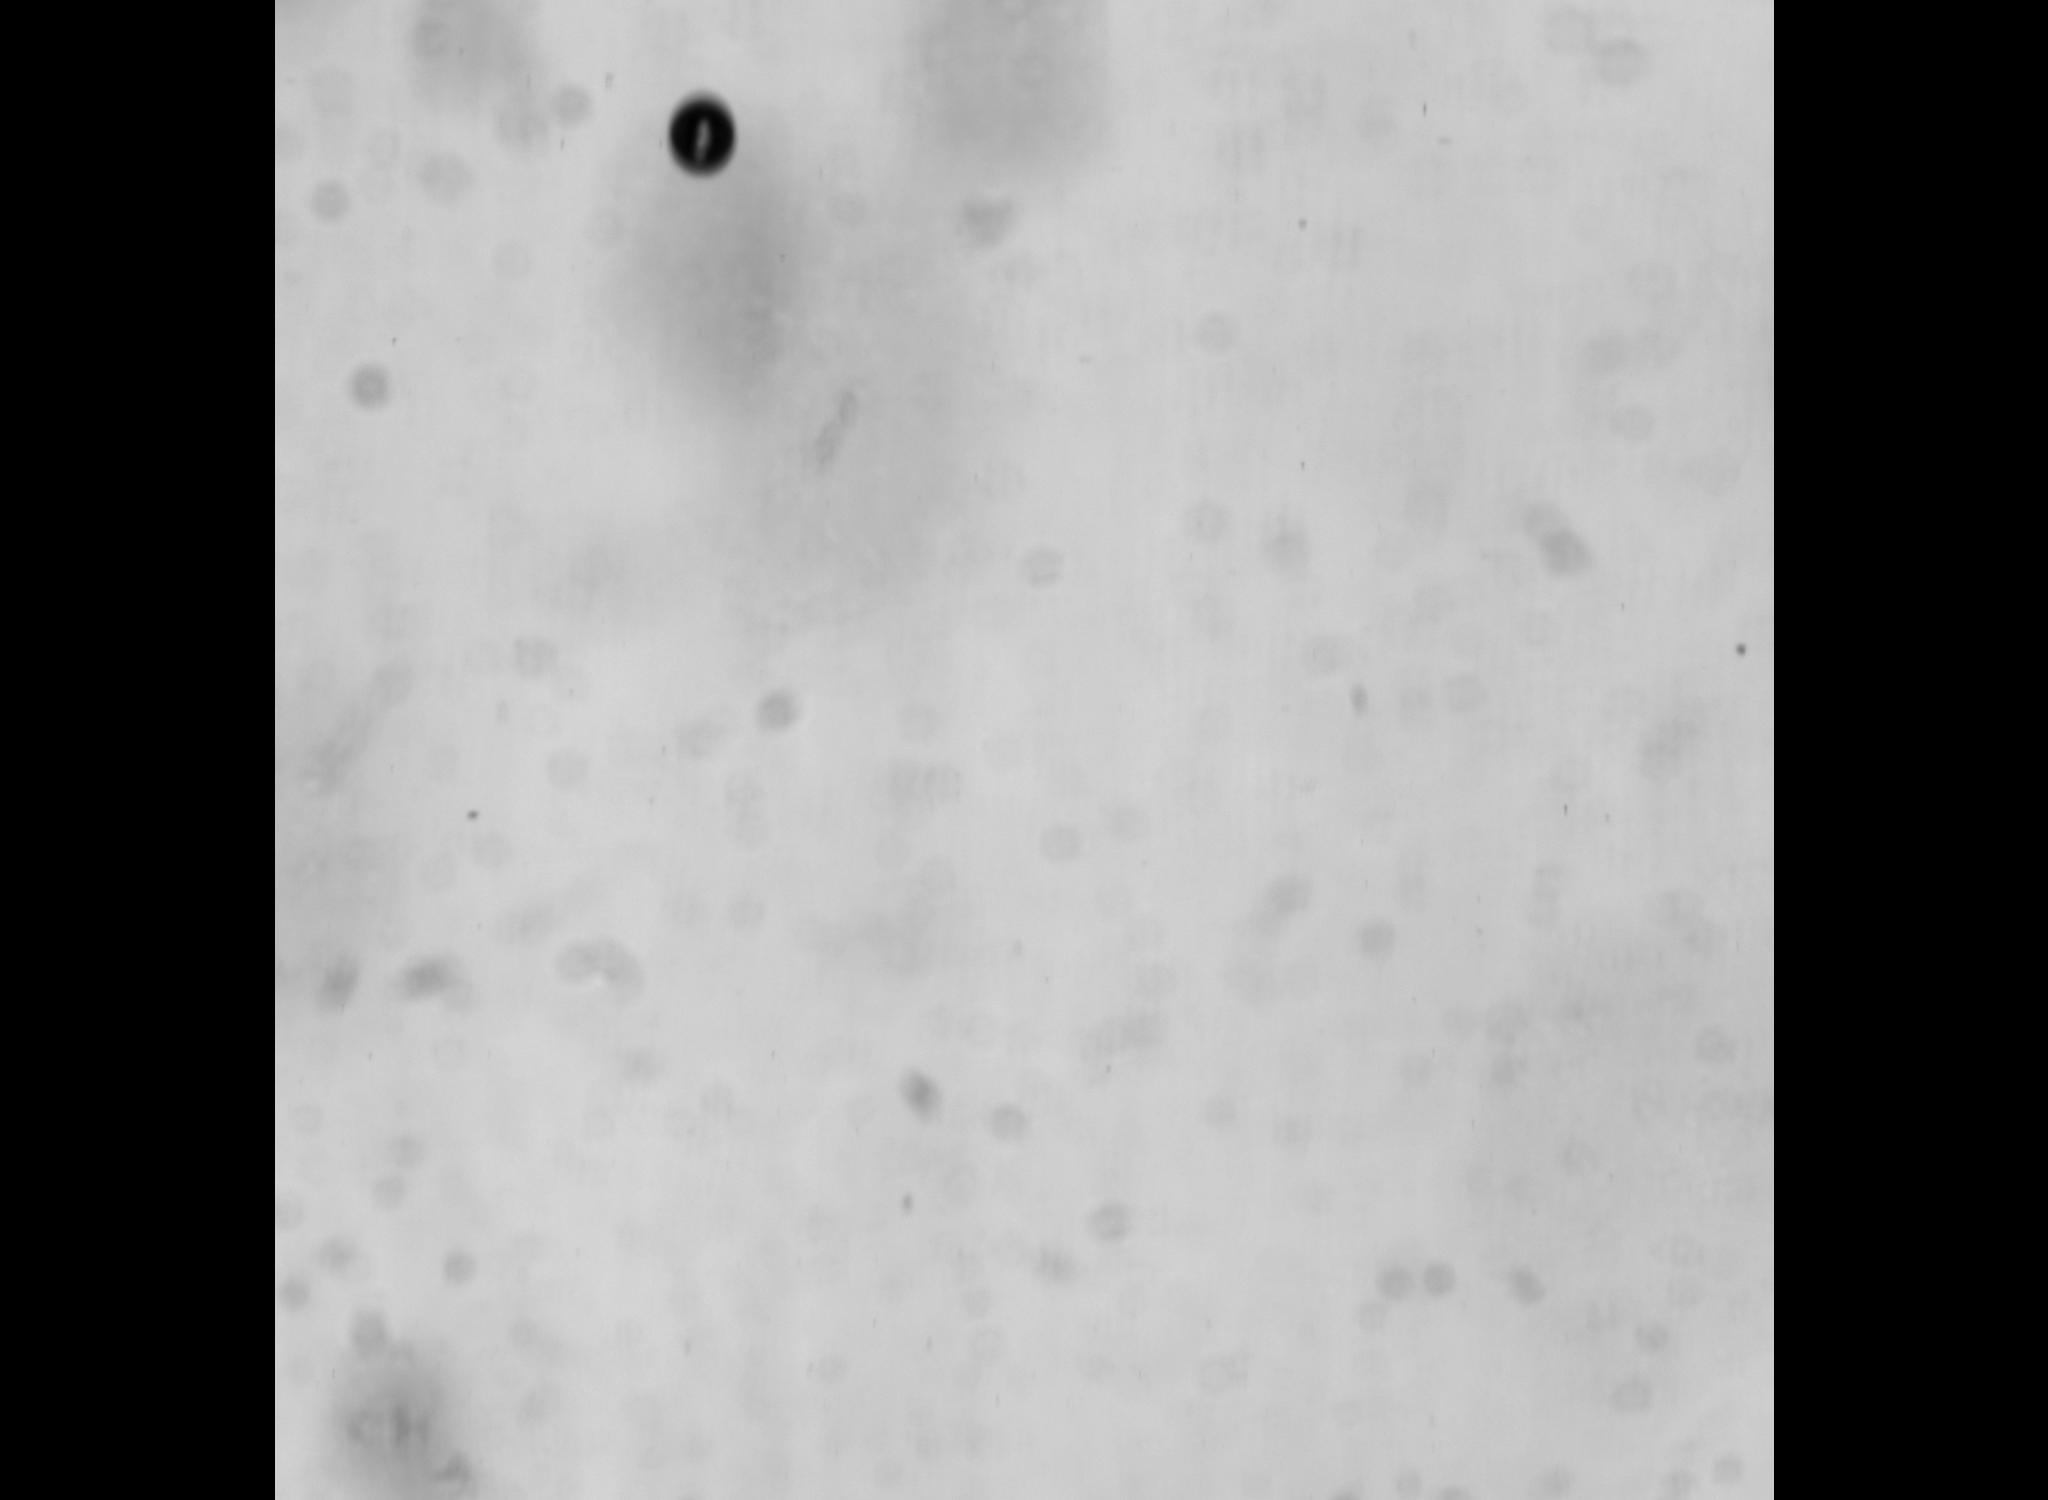bubble: (666, 97, 735, 177)
